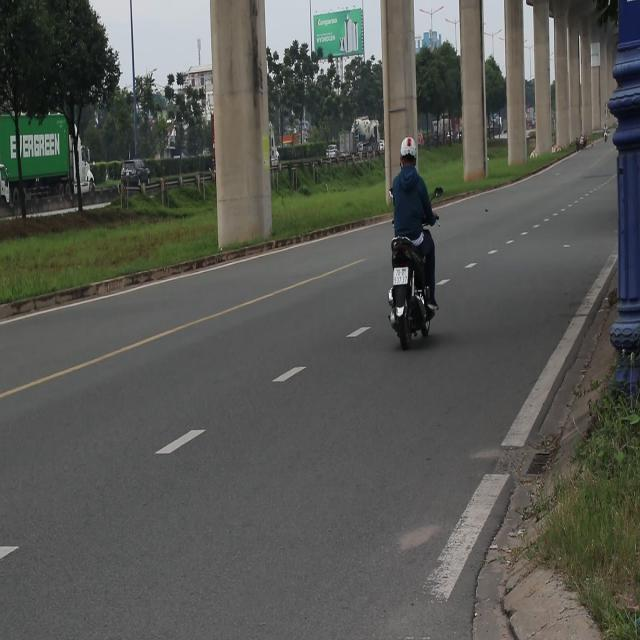car: (120, 159, 151, 189), (327, 145, 340, 160)
motorbike: (388, 237, 438, 349)
truck: (0, 102, 108, 230), (265, 120, 284, 170), (336, 126, 358, 163)
